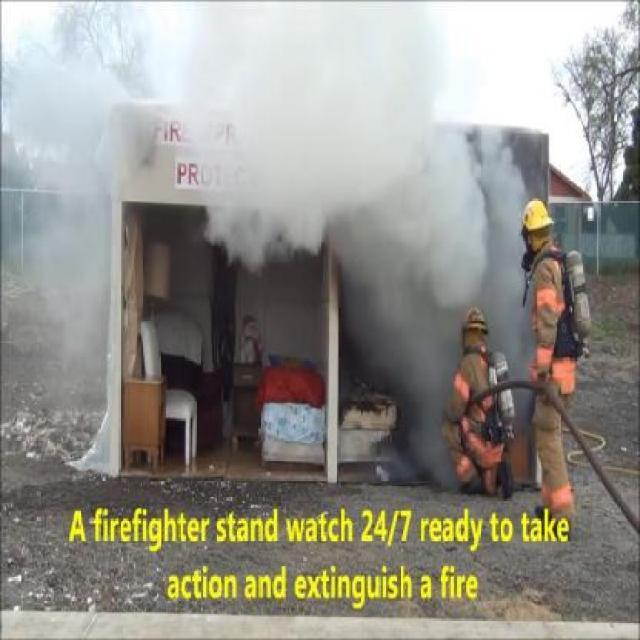smoke: (154, 8, 614, 468), (21, 16, 145, 410)
